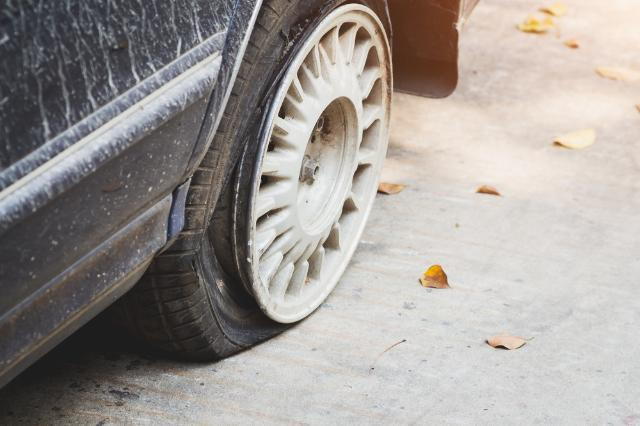tire flat: (117, 0, 396, 361)
